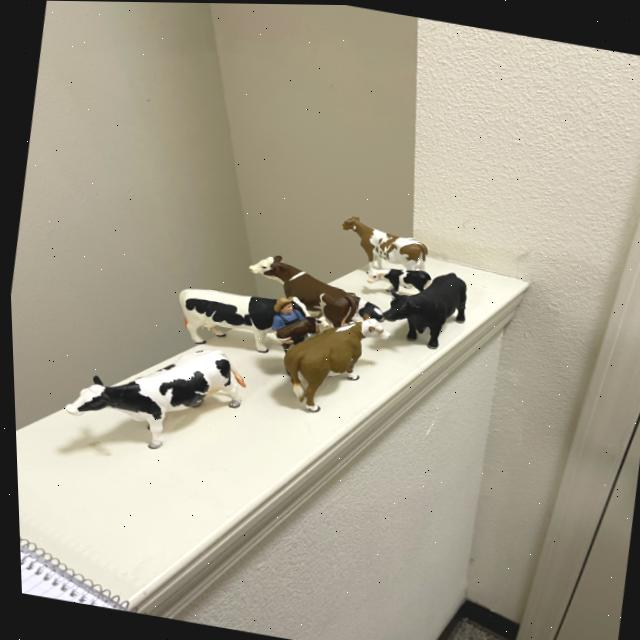cow: (58, 329, 252, 475), (267, 293, 397, 415), (375, 252, 481, 358), (241, 245, 365, 334), (324, 212, 431, 298), (173, 287, 306, 355), (271, 307, 330, 350), (364, 266, 430, 296)
person: (259, 292, 303, 332)
